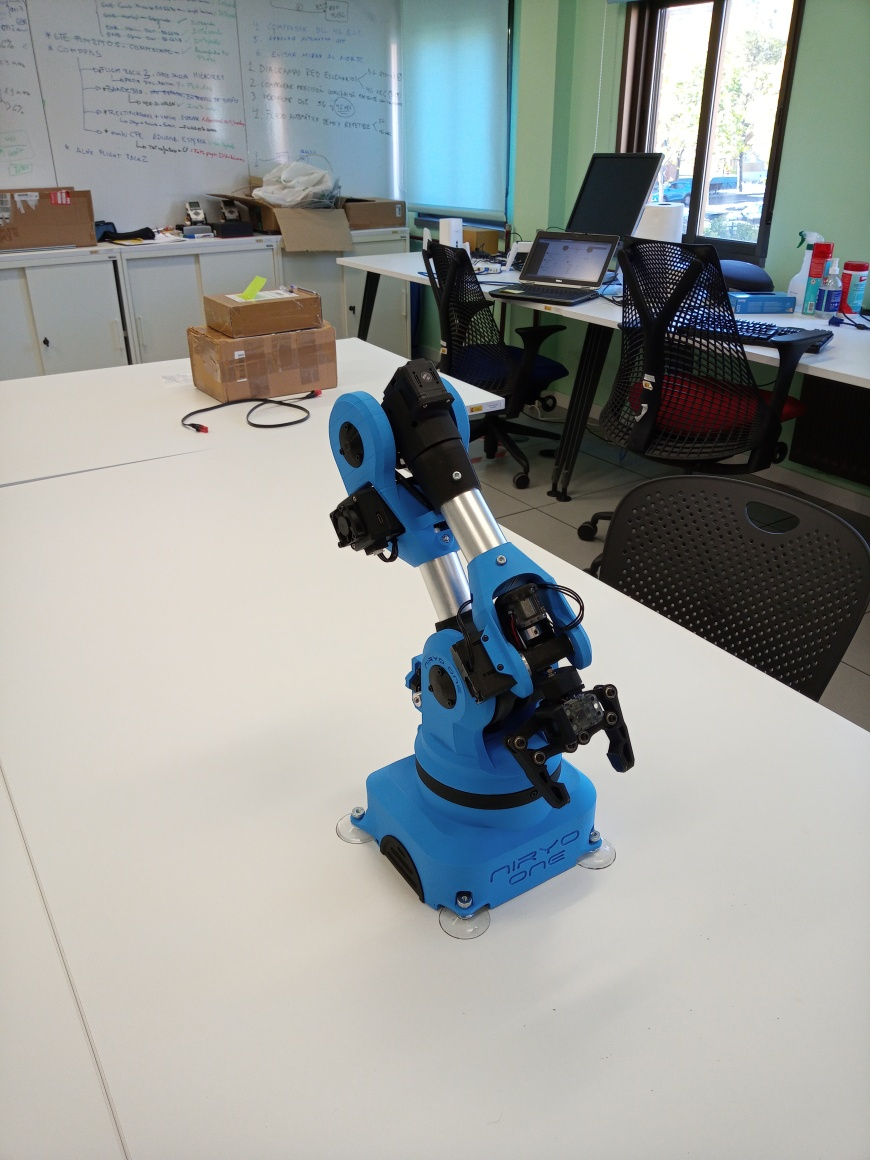robot: (325, 357, 639, 943)
